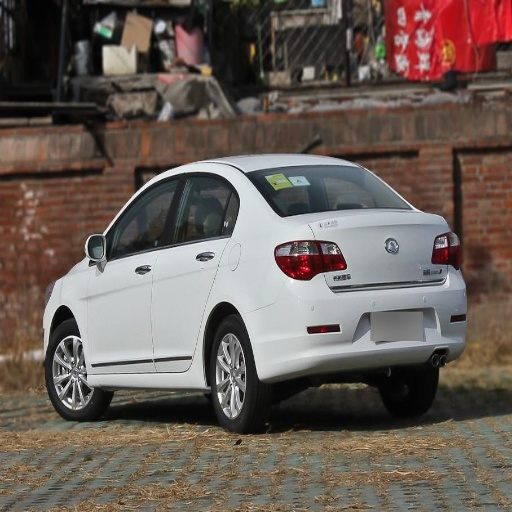back_bumper: (246, 267, 462, 382)
back_glass: (247, 166, 411, 215)
back_left_door: (151, 172, 233, 371)
tailgate: (302, 209, 442, 290)
